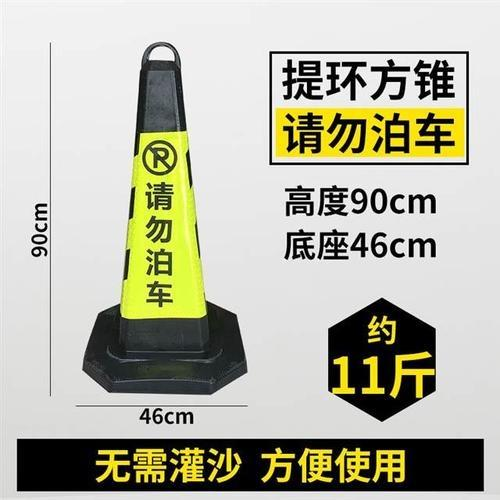cone_barrel: (81, 53, 235, 392)
